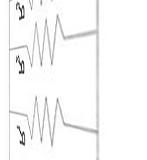resistor: (25, 92, 73, 147), (23, 9, 69, 65)
